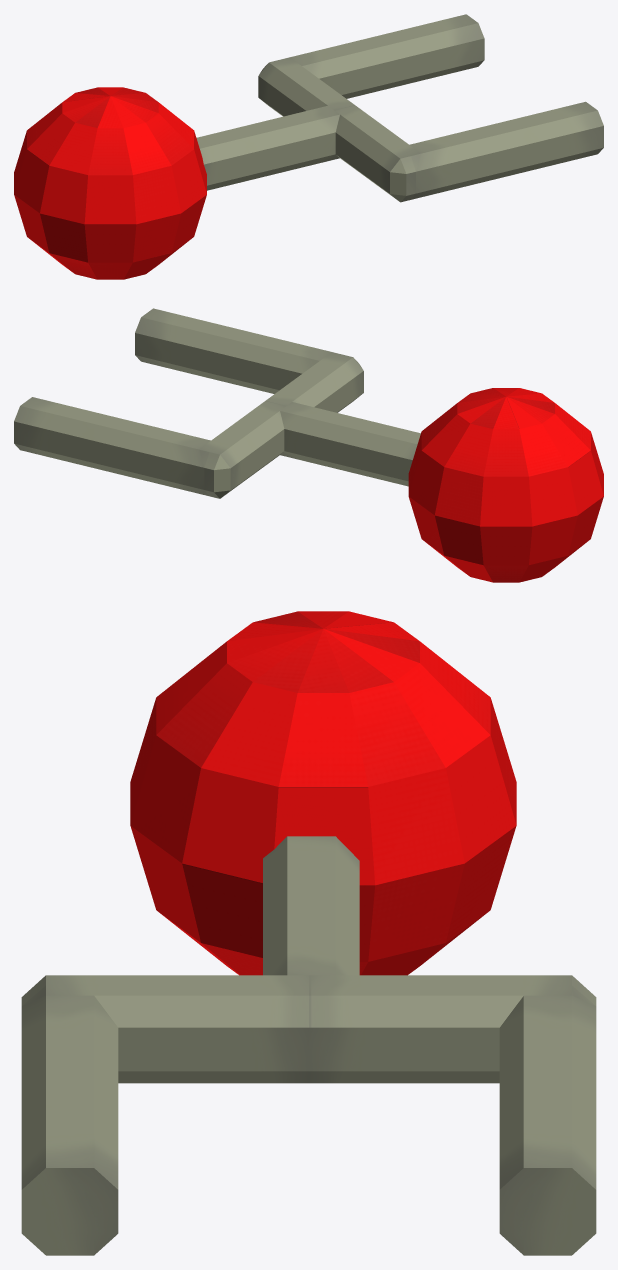
The model's file is lever.obj.
The picture shows the model from 3 angles, top to bottom: view 1: azimuth 30°, elevation 25°; view 2: azimuth 150°, elevation 25°; view 3: azimuth 270°, elevation 25°; orthographic projection. The views are drawn at different scales.
Parts seen in each view (by area): view 1: cube, sphere; view 2: cube, sphere; view 3: cube, sphere.
Boxes of the visible parts, <box> form: cube: <box>196,14,603,202</box>; sphere: <box>14,87,206,279</box>; cube: <box>14,308,420,498</box>; sphere: <box>408,388,603,582</box>; cube: <box>21,836,596,1255</box>; sphere: <box>130,611,516,975</box>.
Size of the model in its own units: 1.5 by 0.5 by 0.7437.
